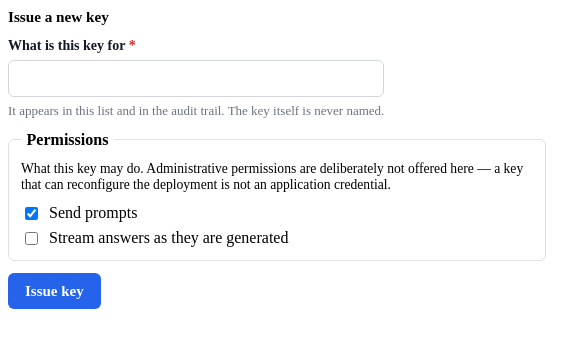
it: failures are keyed, and never echo a body › a transport failure is its own keyed message
Type "Checkout" into the field labelled "What is this key for *" at (196, 78), box [8, 60, 384, 97]
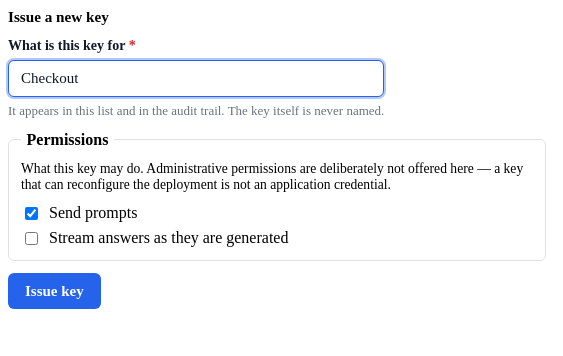
Click the button "Issue key" at (54, 291), box [8, 272, 101, 309]
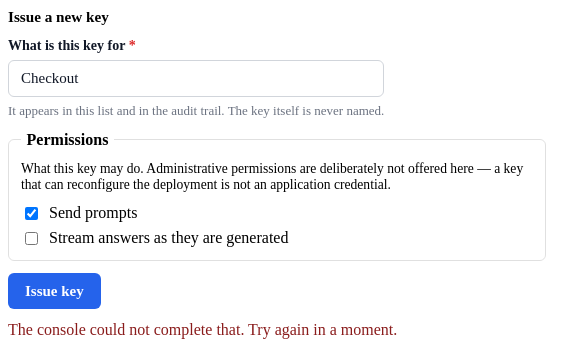
Expected: the message reads "The console could not complete that. Try again in a moment.", [8, 321, 397, 338]
